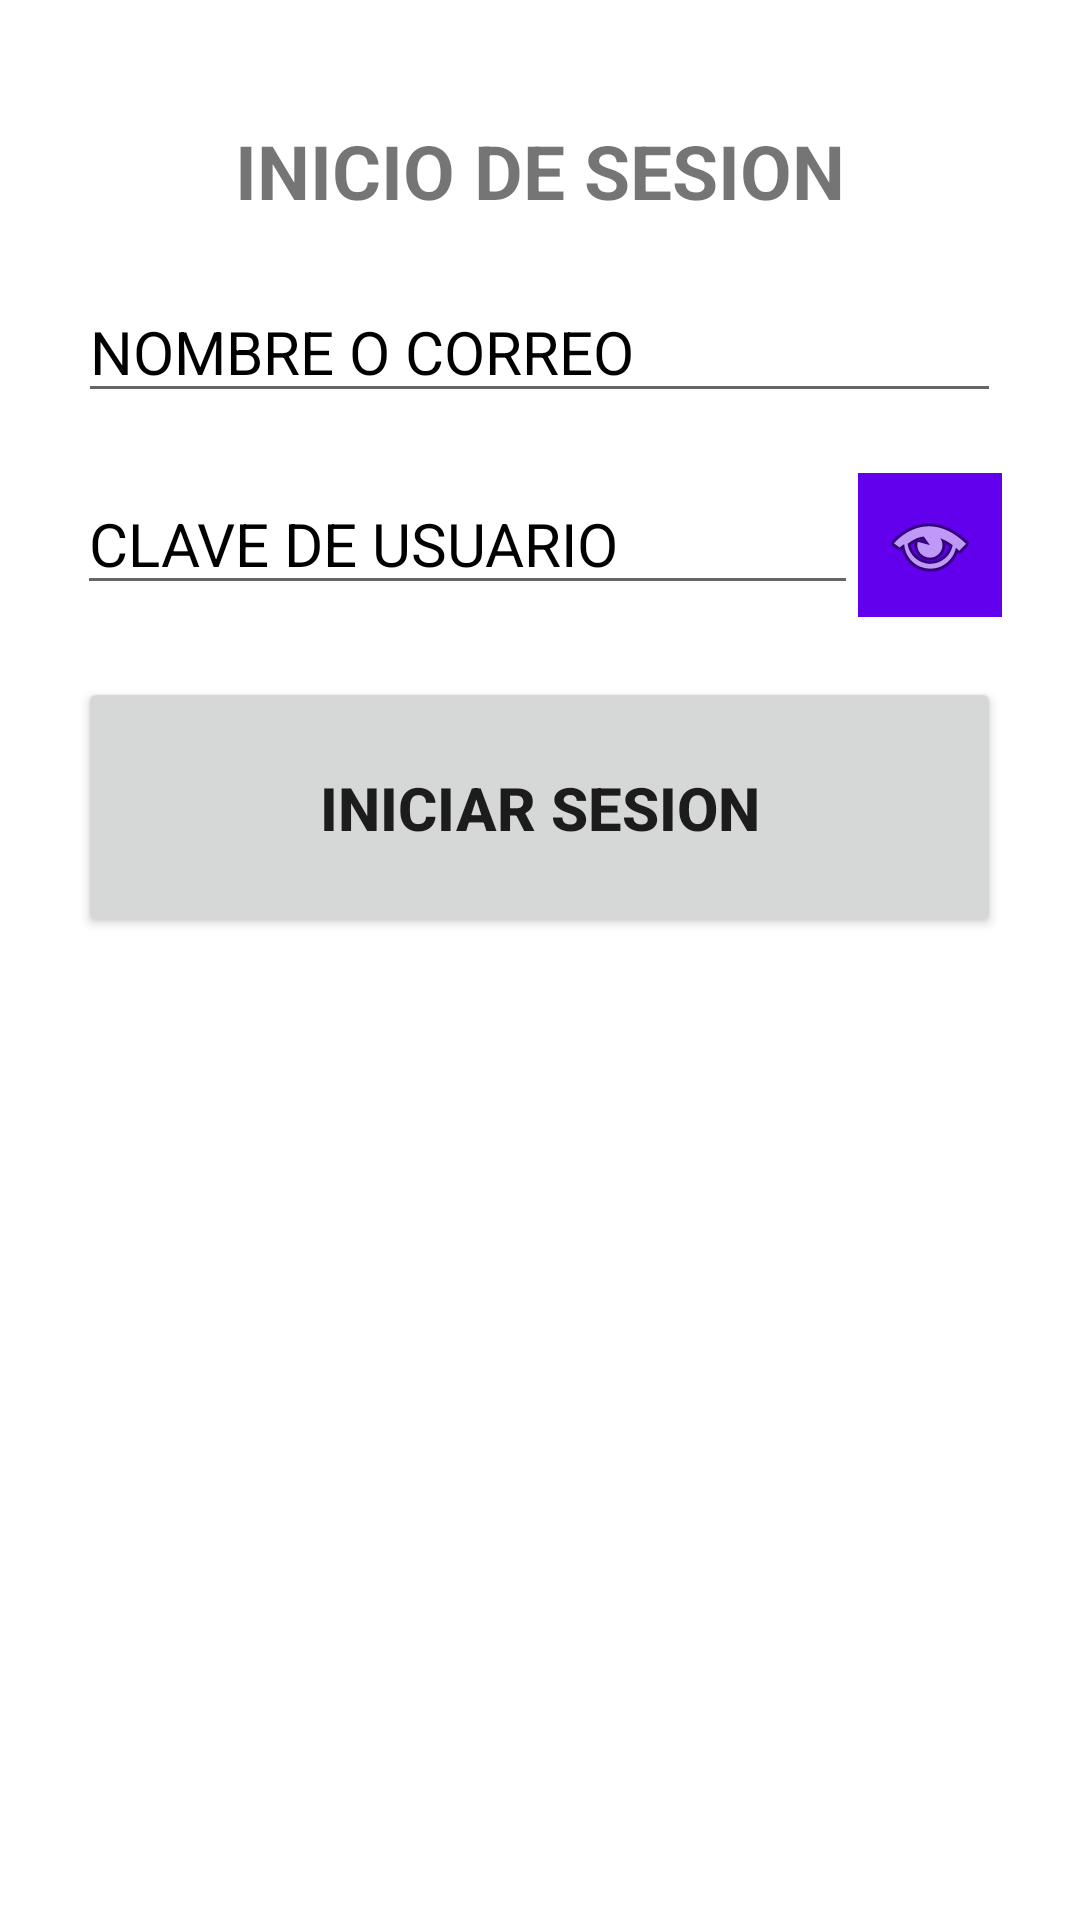

Where to tap for icons on this 1080px×1920px app screen, as (x=x, y=y):
VER CLAVE: (x=930, y=545)
